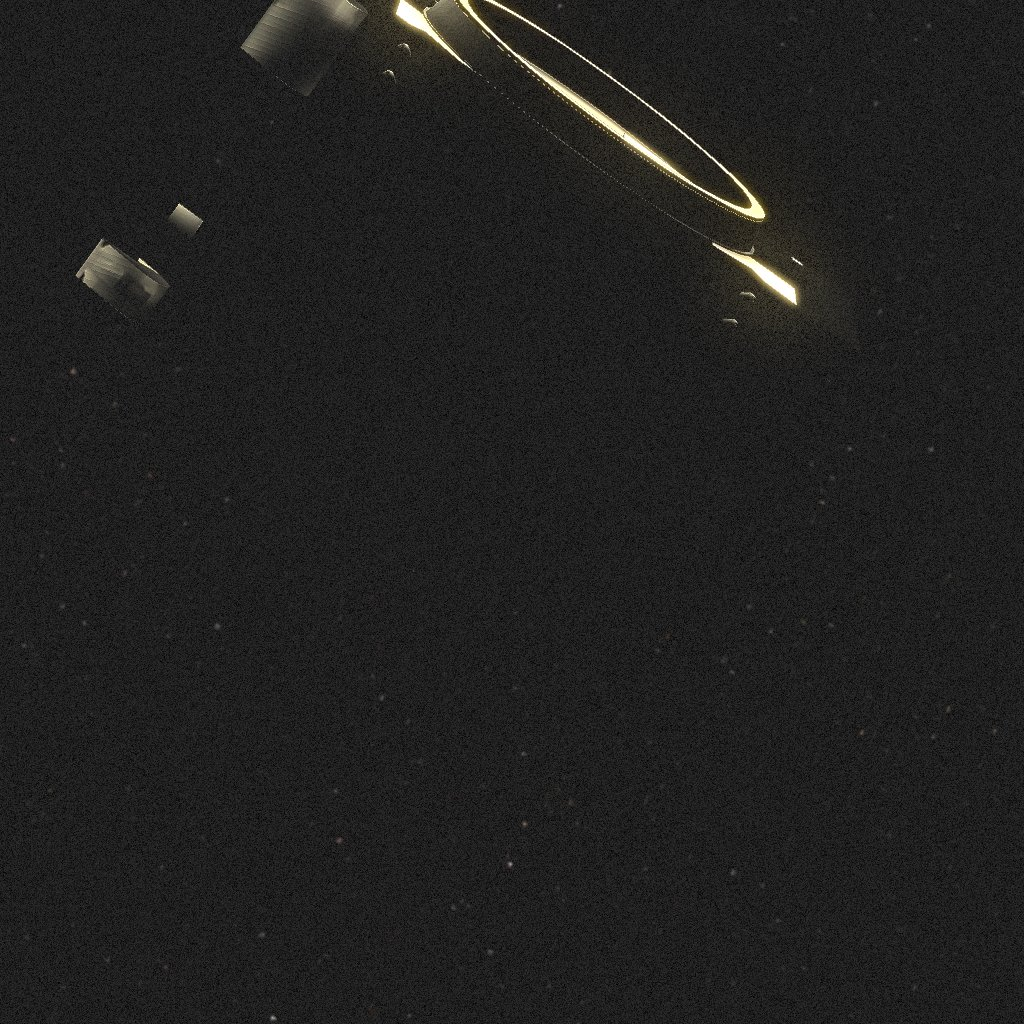proba_3_csc: (0, 0, 869, 710)
